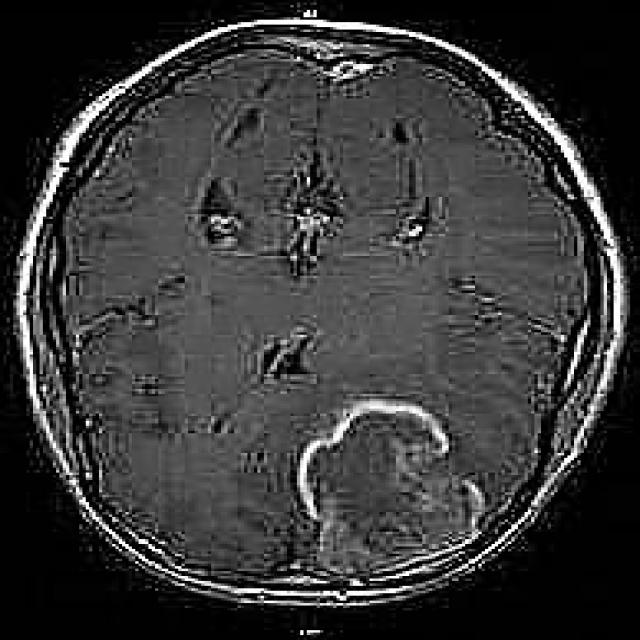Tumor-Cell: (283, 394, 473, 558)
